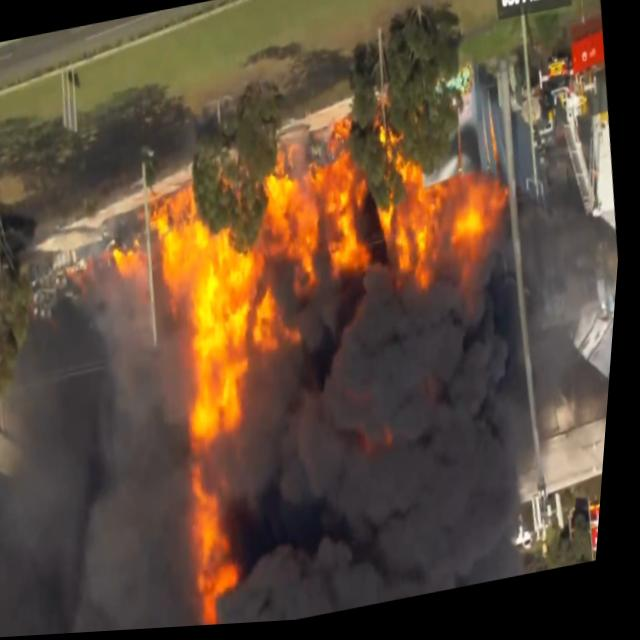Fire: (116, 98, 527, 371), (157, 336, 320, 631)
